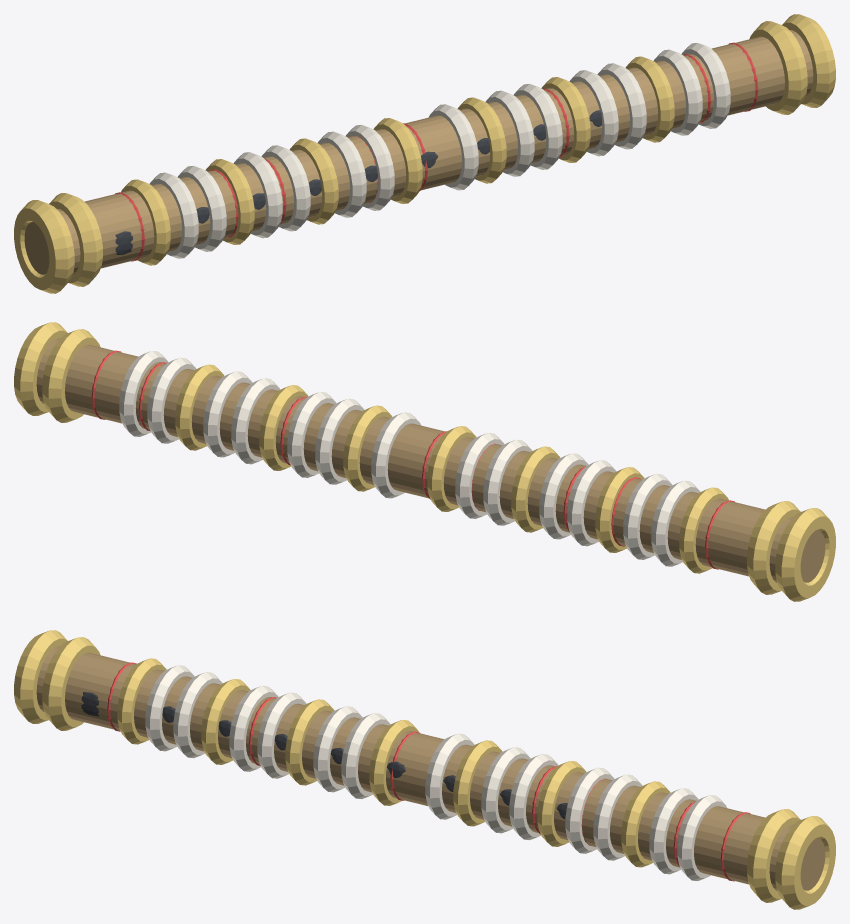
The model's file is gakki_ryuteki.glb.
3 renders of one model, top to bottom at view 1: azimuth 30°, elevation 25°; view 2: azimuth 150°, elevation 25°; view 3: azimuth 330°, elevation 25°, orthographic.
Parts seen in each view (by area): view 1: Bamboo horizontal shinobue or ryuteki, Ryuteki bright metal end-ferrule, Ryuteki bright metal end-ferrule.002, Ryuteki bright metal end-ferrule.001, Ryuteki bright metal end-ferrule.003, Ryuteki exposed ornate light silk binding.010, Ryuteki exposed ornate light silk binding, Ryuteki exposed ornate light silk binding.014, Ryuteki exposed ornate light silk binding.009, Ryuteki exposed ornate light silk binding.016, Ryuteki exposed ornate light silk binding.017, Ryuteki exposed ornate light silk binding.005 (+13 smaller); view 2: Bamboo horizontal shinobue or ryuteki, Ryuteki bright metal end-ferrule, Ryuteki bright metal end-ferrule.002, Ryuteki bright metal end-ferrule.001, Ryuteki bright metal end-ferrule.003, Ryuteki exposed ornate light silk binding.010, Ryuteki exposed ornate light silk binding, Ryuteki exposed ornate light silk binding.014, Ryuteki exposed ornate light silk binding.009, Ryuteki exposed ornate light silk binding.016, Ryuteki exposed ornate light silk binding.017, Ryuteki exposed ornate light silk binding.005 (+13 smaller); view 3: Bamboo horizontal shinobue or ryuteki, Ryuteki bright metal end-ferrule.003, Ryuteki bright metal end-ferrule.001, Ryuteki bright metal end-ferrule.002, Ryuteki bright metal end-ferrule, Ryuteki exposed ornate light silk binding, Ryuteki exposed ornate light silk binding.006, Ryuteki exposed ornate light silk binding.009, Ryuteki exposed ornate light silk binding.003, Ryuteki exposed ornate light silk binding.014, Ryuteki exposed ornate light silk binding.011, Ryuteki exposed ornate light silk binding.017 (+13 smaller).
Boxes of the visible parts, <box> form: Bamboo horizontal shinobue or ryuteki: <box>24,30,813,274</box>; Ryuteki bright metal end-ferrule: <box>14,200,74,293</box>; Ryuteki bright metal end-ferrule.002: <box>749,21,807,114</box>; Ryuteki bright metal end-ferrule.001: <box>49,193,102,286</box>; Ryuteki bright metal end-ferrule.003: <box>782,14,835,107</box>; Ryuteki exposed ornate light silk binding.010: <box>428,104,478,190</box>; Ryuteki exposed ornate light silk binding: <box>121,179,170,265</box>; Ryuteki exposed ornate light silk binding.014: <box>541,77,590,162</box>; Ryuteki exposed ornate light silk binding.009: <box>373,118,422,203</box>; Ryuteki exposed ornate light silk binding.016: <box>597,63,646,149</box>; Ryuteki exposed ornate light silk binding.017: <box>625,56,674,142</box>; Ryuteki exposed ornate light silk binding.005: <box>261,145,310,231</box>; Bamboo horizontal shinobue or ryuteki: <box>36,338,825,582</box>; Ryuteki bright metal end-ferrule: <box>775,508,835,601</box>; Ryuteki bright metal end-ferrule.002: <box>42,329,100,422</box>; Ryuteki bright metal end-ferrule.001: <box>747,501,800,594</box>; Ryuteki bright metal end-ferrule.003: <box>14,322,67,415</box>; Ryuteki exposed ornate light silk binding.010: <box>371,412,421,498</box>; Ryuteki exposed ornate light silk binding: <box>679,487,728,573</box>; Ryuteki exposed ornate light silk binding.014: <box>259,385,308,470</box>; Ryuteki exposed ornate light silk binding.009: <box>427,426,476,511</box>; Ryuteki exposed ornate light silk binding.016: <box>203,371,252,457</box>; Ryuteki exposed ornate light silk binding.017: <box>175,364,224,450</box>; Ryuteki exposed ornate light silk binding.005: <box>539,453,588,539</box>; Bamboo horizontal shinobue or ryuteki: <box>36,646,825,890</box>; Ryuteki bright metal end-ferrule.003: <box>775,816,835,909</box>; Ryuteki bright metal end-ferrule.001: <box>42,637,100,730</box>; Ryuteki bright metal end-ferrule.002: <box>747,809,800,902</box>; Ryuteki bright metal end-ferrule: <box>14,630,67,723</box>; Ryuteki exposed ornate light silk binding: <box>117,658,166,744</box>; Ryuteki exposed ornate light silk binding.006: <box>285,699,334,785</box>; Ryuteki exposed ornate light silk binding.009: <box>369,720,418,805</box>; Ryuteki exposed ornate light silk binding.003: <box>201,679,250,764</box>; Ryuteki exposed ornate light silk binding.014: <box>537,761,586,846</box>; Ryuteki exposed ornate light silk binding.011: <box>453,740,502,826</box>; Ryuteki exposed ornate light silk binding.017: <box>621,781,670,867</box>.
Size of the model in its own units: 1.95 by 0.2091 by 0.2076.
